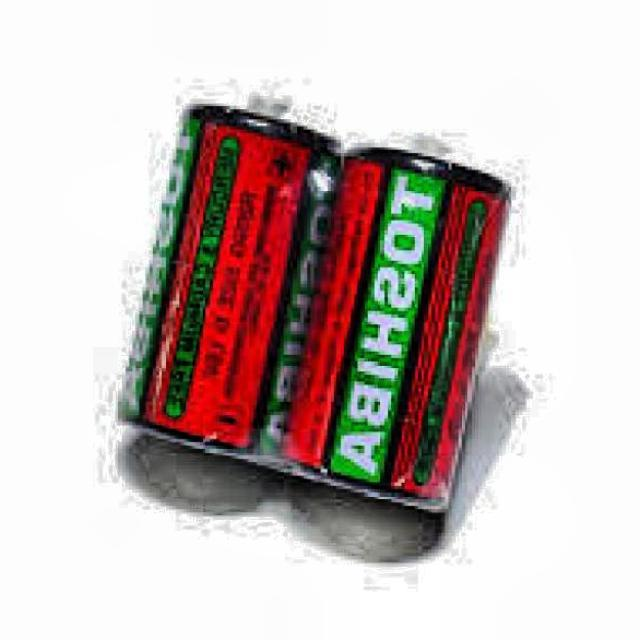battery: (126, 103, 512, 509)
